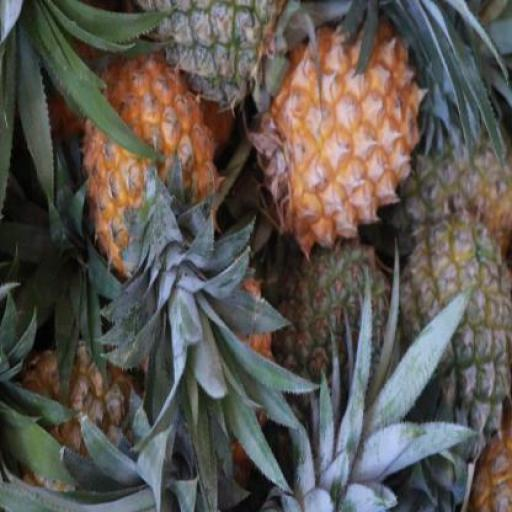------------------------------: (397, 218, 509, 461)
Pineapple - v8 v1: (258, 22, 424, 251), (82, 58, 221, 278)
